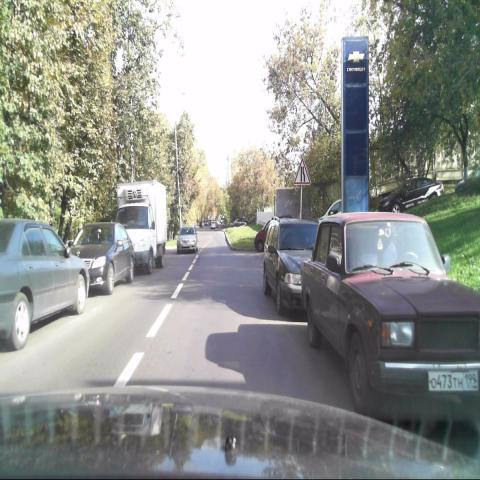1_20_2: (291, 157, 312, 185)
